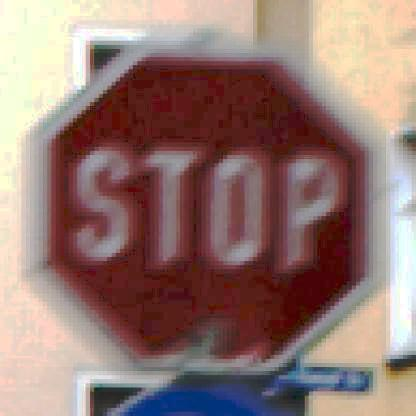Stop Sign: (30, 39, 397, 380)
